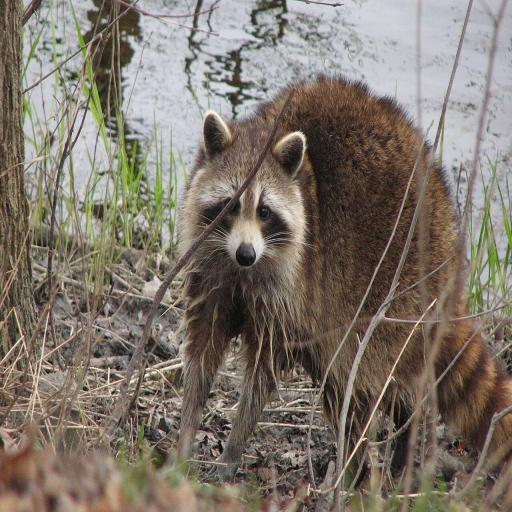raccoon: (178, 77, 430, 476)
